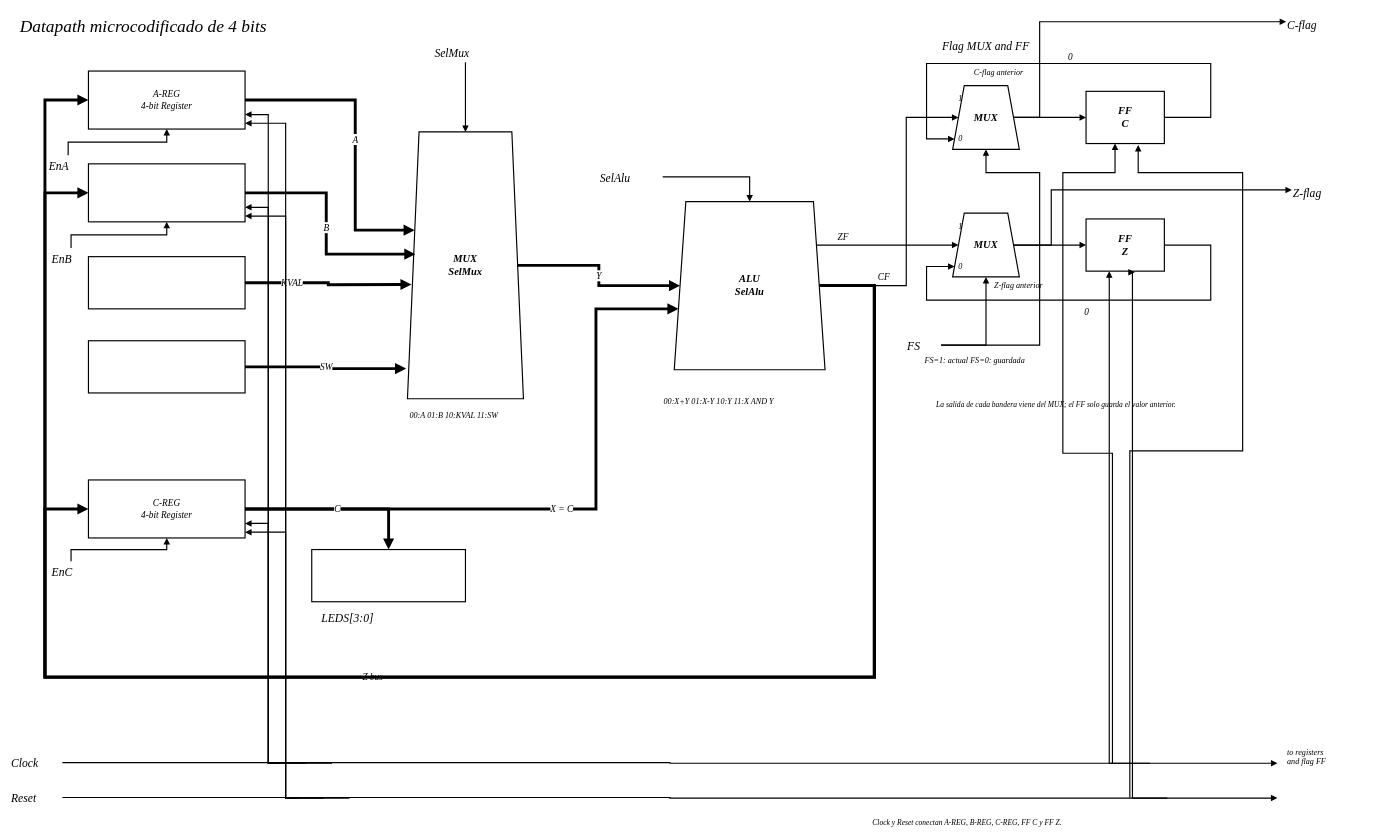
Image size: 1377x840. Some labels were removed from this diagram. Each missing label, with the centre of its shape:
"B-REG 4-bit Register" belongs at point 166,192.
"KVAL Constant" belongs at point 166,282.
"LEDS Output" belongs at point 388,575.
"SW Switches" belongs at point 166,366.
